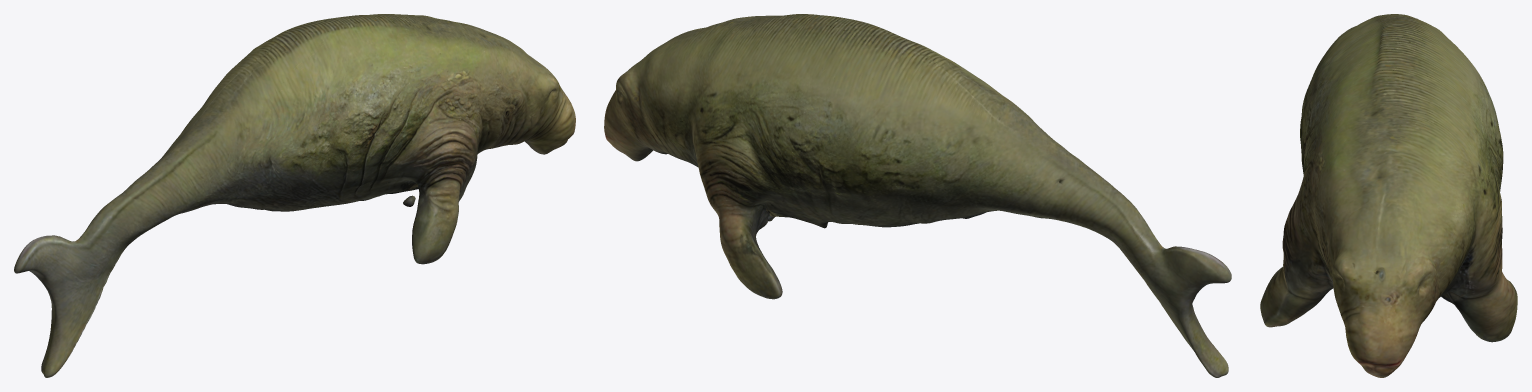
Rendered from stellers-sea-cow.glb.
3 views of the same model, side by side, from view 1: azimuth 30°, elevation 25°; view 2: azimuth 150°, elevation 25°; view 3: azimuth 270°, elevation 25° (orthographic). The views are drawn at different scales.
Parts seen in each view (by area): view 1: Object_2; view 2: Object_2; view 3: Object_2.
Boxes of the visible parts, x1,y1,x2,y2 form: Object_2: [14, 14, 575, 377]; Object_2: [604, 14, 1231, 377]; Object_2: [1260, 14, 1517, 377].
Bounding box in the file's own units: 2 × 0.8903 × 0.6485.
1 material, 1 textured.
